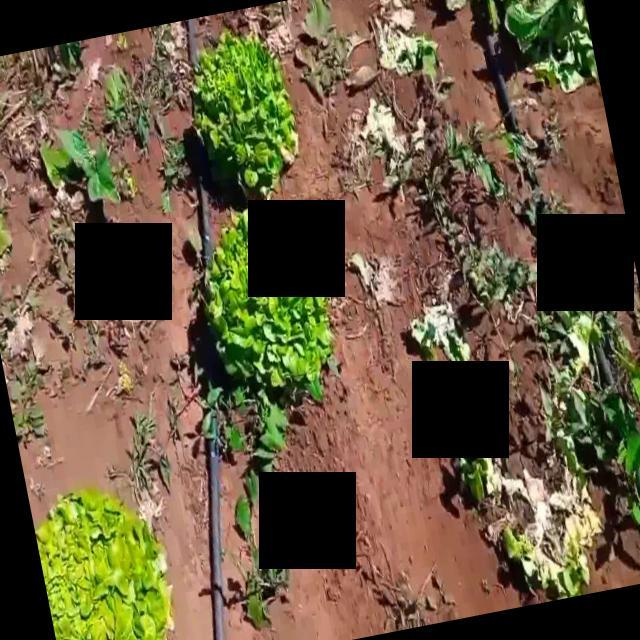Lettuce: (196, 212, 336, 396), (33, 491, 171, 640), (188, 26, 300, 198)
